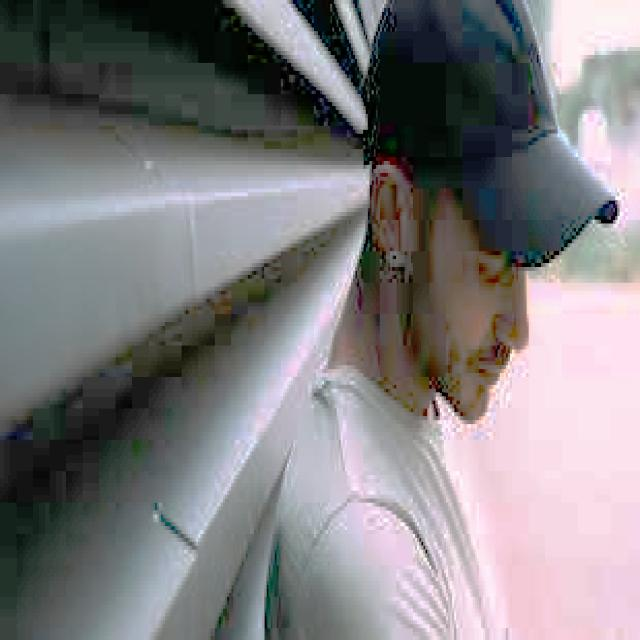TOPI: (355, 0, 626, 279)
